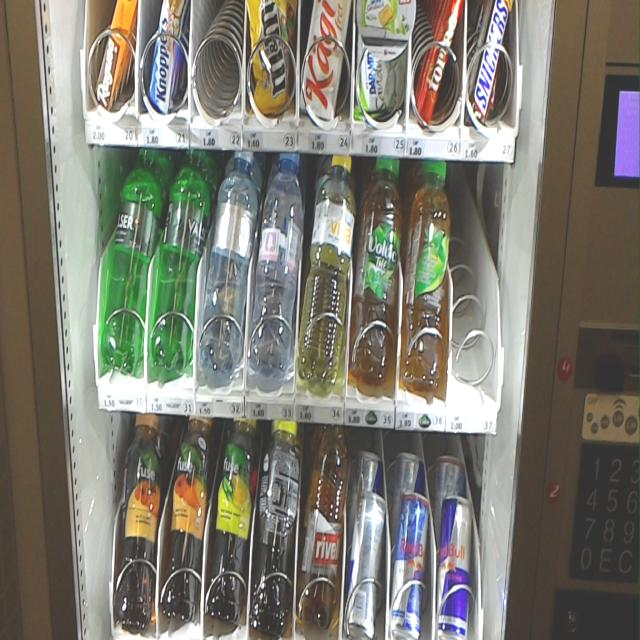darwida_sandwich____7610032065170: (354, 0, 408, 120)
evian___50__3068320353500: (254, 150, 301, 366)
fuse_lemon__50__5449000235947: (253, 420, 300, 630), (208, 418, 256, 614)
fuse_peach__50__5449000236623: (115, 411, 161, 624), (164, 415, 212, 619)
kagi___50__7610046000259: (300, 0, 350, 115)
knoppers_riegel____4035800488808: (146, 0, 184, 106)
mnms_gelb__45__40111445: (246, 1, 292, 116)
ragusa___50__76401121: (93, 0, 135, 108)
redbull___33__90162909: (391, 496, 431, 638), (347, 494, 386, 630), (437, 495, 470, 639)
rivella_rot__50__7610097111072: (300, 424, 347, 624)
snickers___50__5000159461122: (468, 0, 514, 123)
torino___46__76415272: (413, 0, 464, 122)
valser_classic__50__76404160: (108, 146, 162, 367), (160, 148, 210, 363)
valser_still__50__7610335002575: (208, 147, 255, 365)
valser_vivabirne__50__7610335001530: (305, 154, 354, 376)
volvic_teeminze__50__3057640335648: (404, 158, 452, 383), (354, 155, 400, 377)
